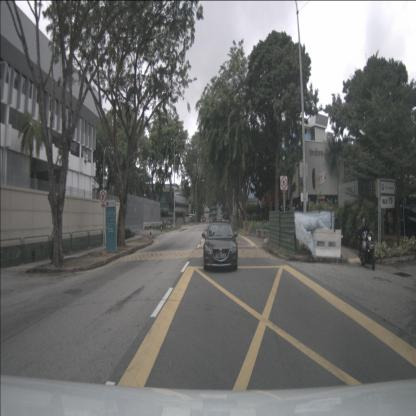movable_object-barrier: (310, 228, 343, 258)
vehicle-car: (203, 221, 238, 270)
vehicle-motorcycle: (356, 217, 375, 270)
